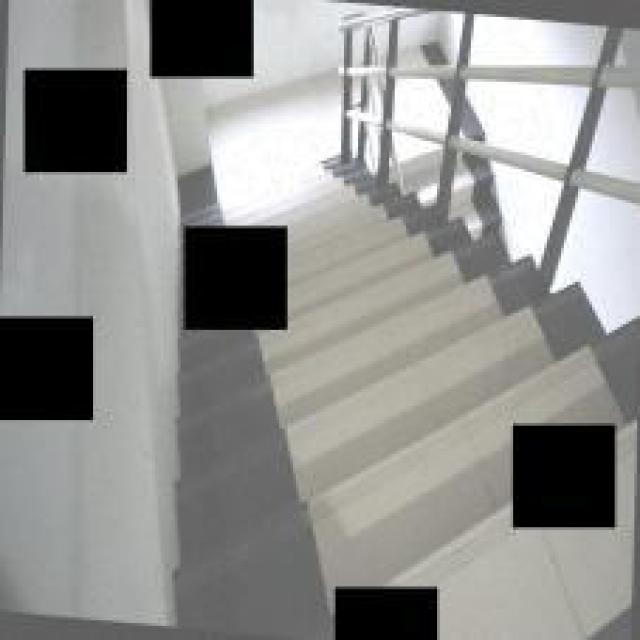downstair: (308, 201, 514, 554)
